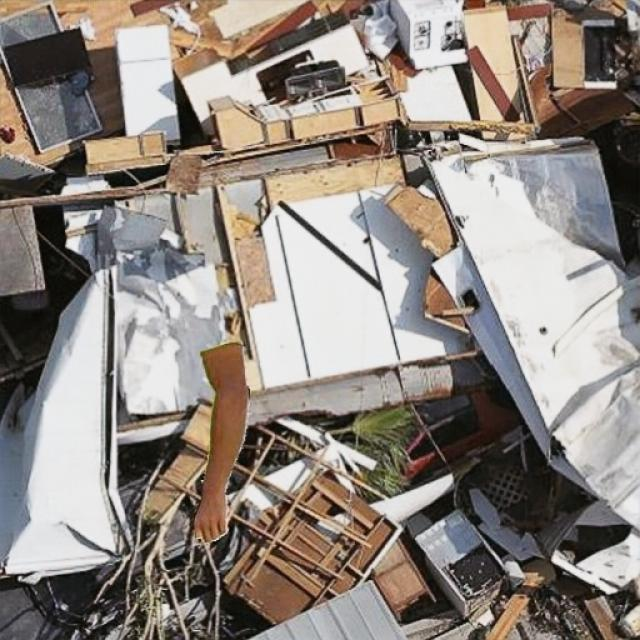Person in Rubble: (192, 342, 248, 542)
